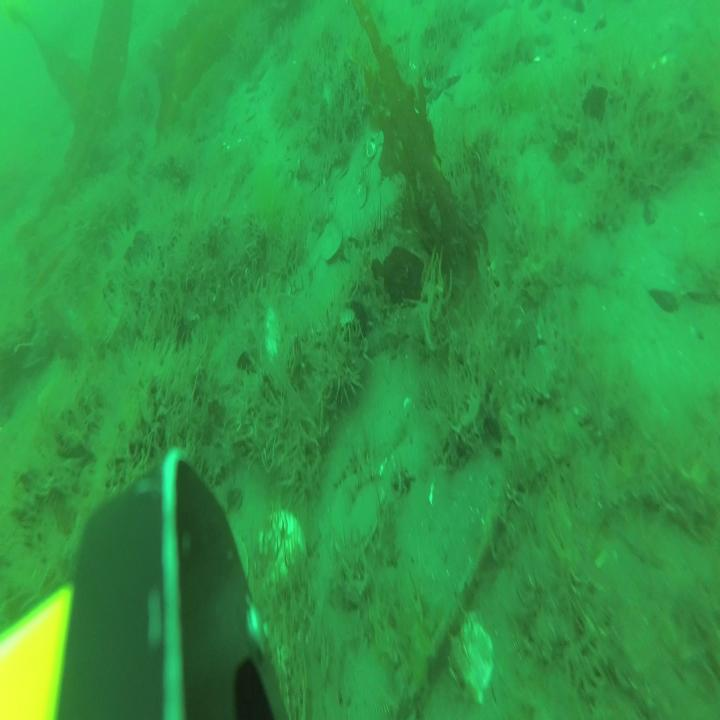scallop: (452, 608, 496, 702), (259, 511, 308, 591), (331, 476, 378, 556), (264, 308, 284, 369)
